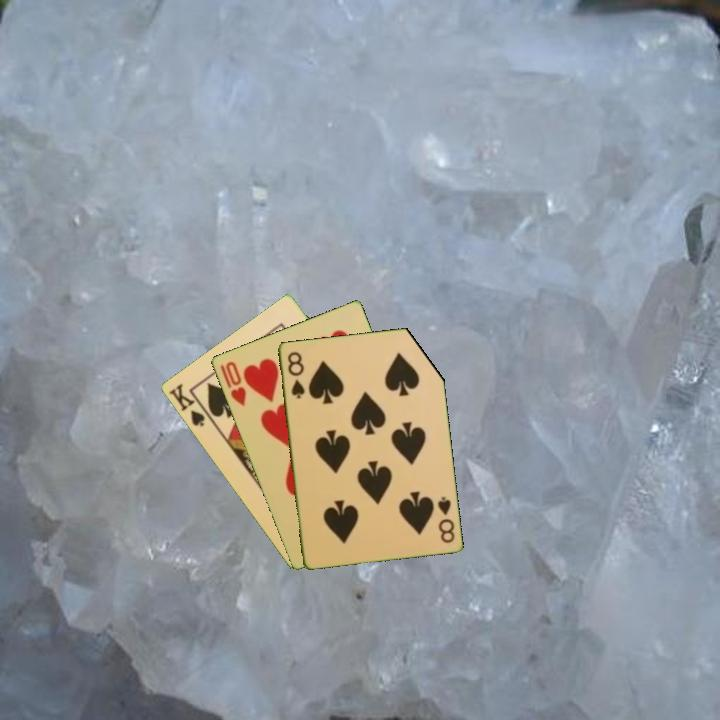10h: (216, 357, 249, 409)
8s: (284, 348, 307, 401), (434, 493, 457, 546)
Ks: (165, 380, 207, 429)
